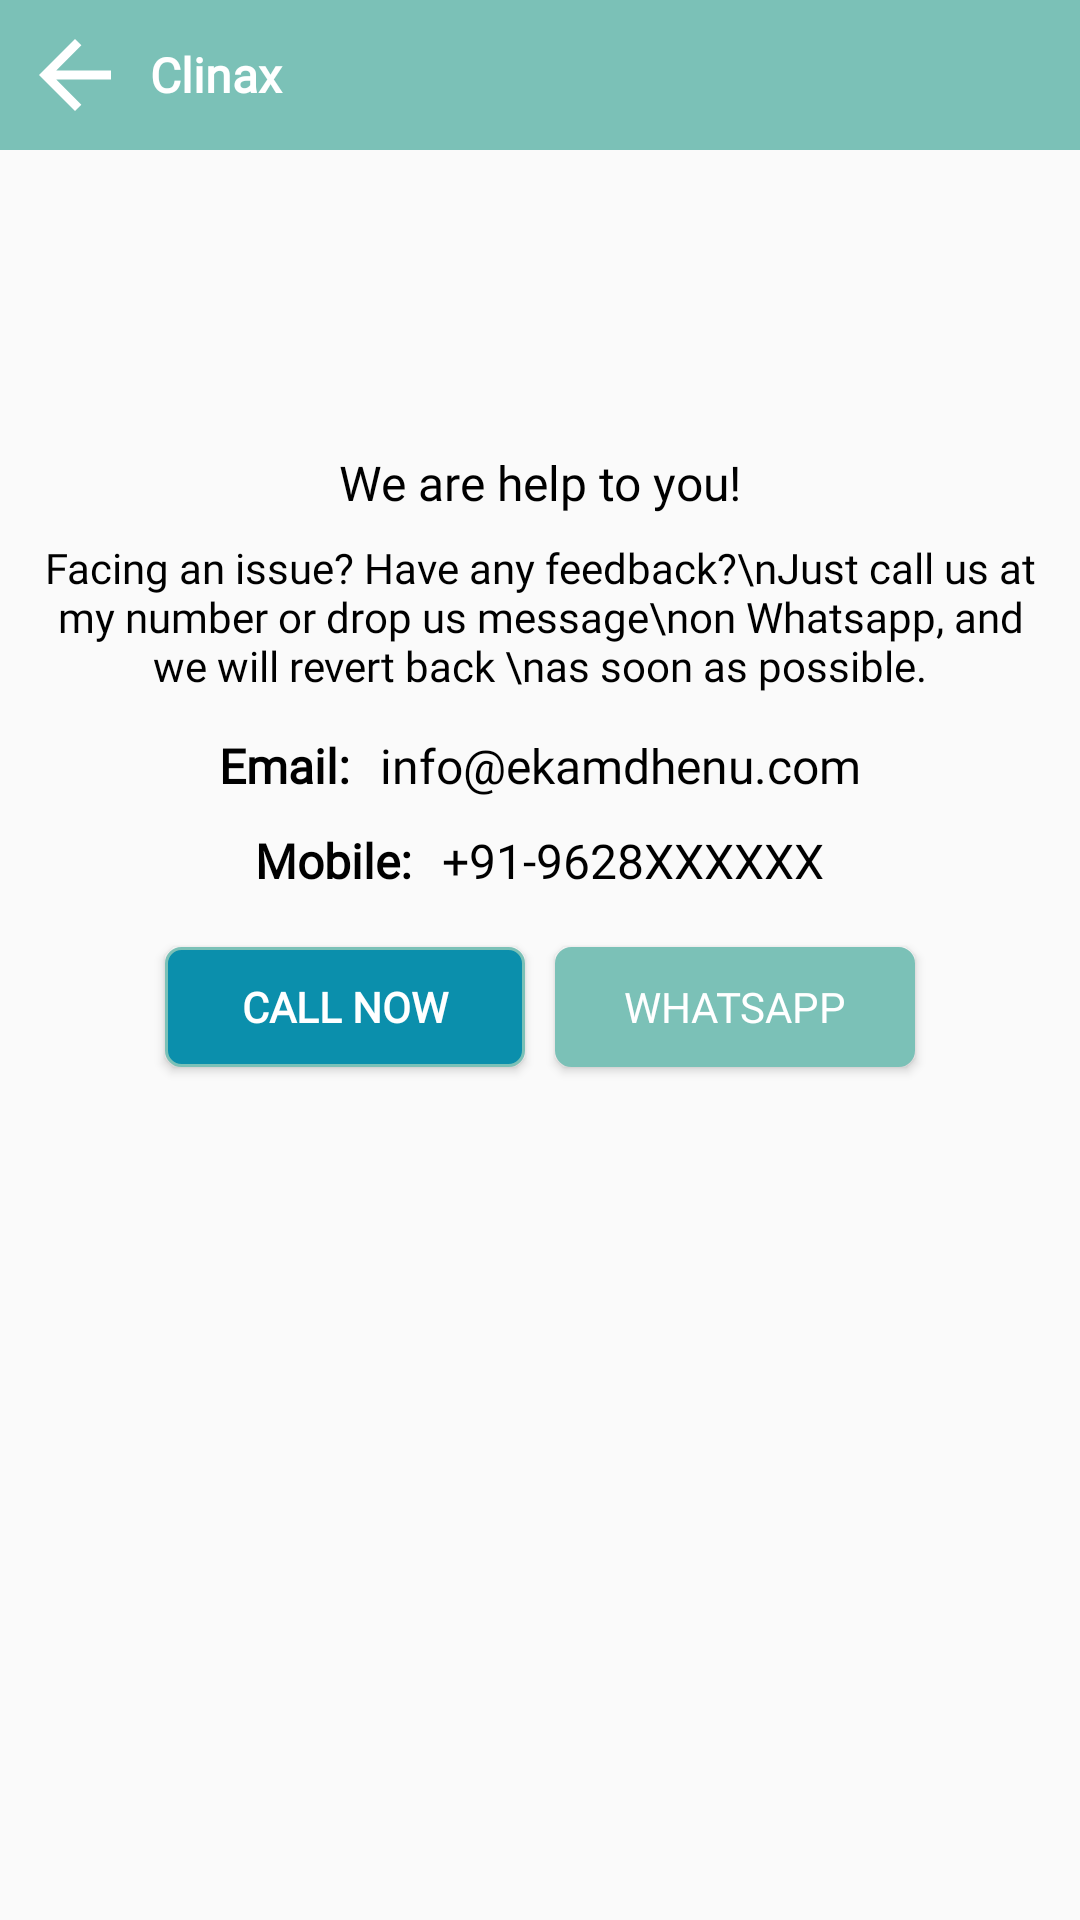

Locate icon controls on the screen. Image size 1080px×1920px, boxes as (x1, y1, x2, y2).
arrow back: (39, 39, 111, 111)
